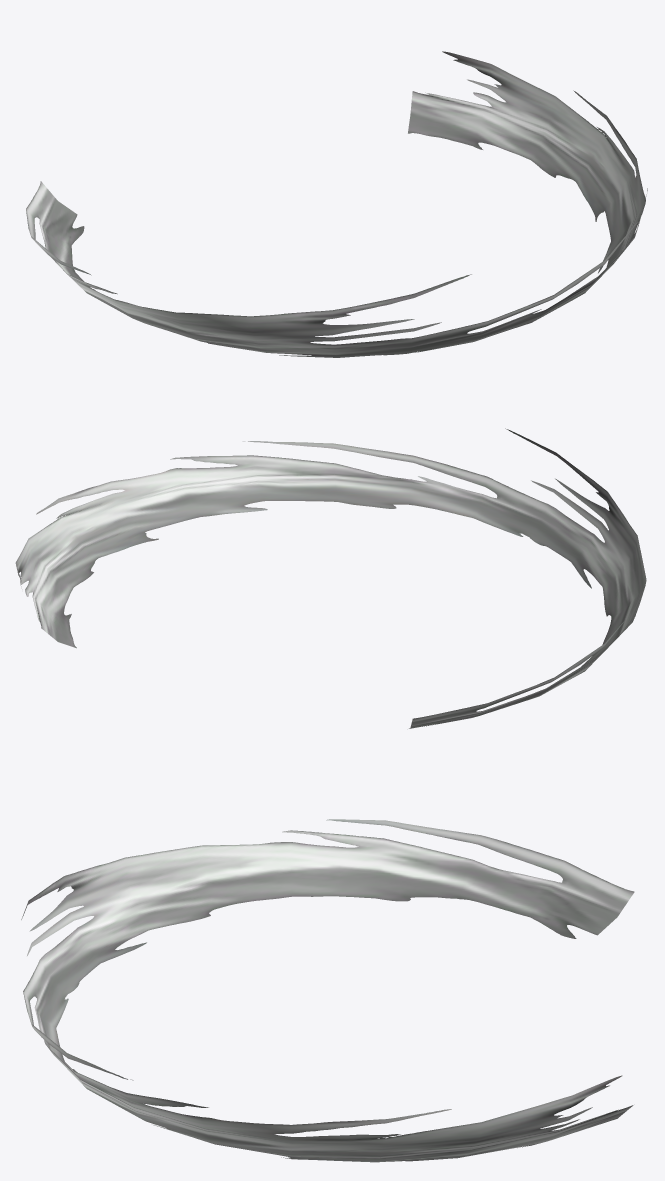
Rendered from Mesh_huan_007.FBX.
The picture shows the model from 3 angles, top to bottom: view 1: azimuth 30°, elevation 25°; view 2: azimuth 150°, elevation 25°; view 3: azimuth 270°, elevation 25°; orthographic projection. The views are drawn at different scales.
Parts seen in each view (by area): view 1: Mesh_huan_007; view 2: Mesh_huan_007; view 3: Mesh_huan_007.
Part boxes in pixels (x1,y1,x2,y2): Mesh_huan_007: (26,51,647,357); Mesh_huan_007: (15,428,646,728); Mesh_huan_007: (21,819,634,1162).
Bounding box in the file's own units: 101 × 19.53 × 85.82.
